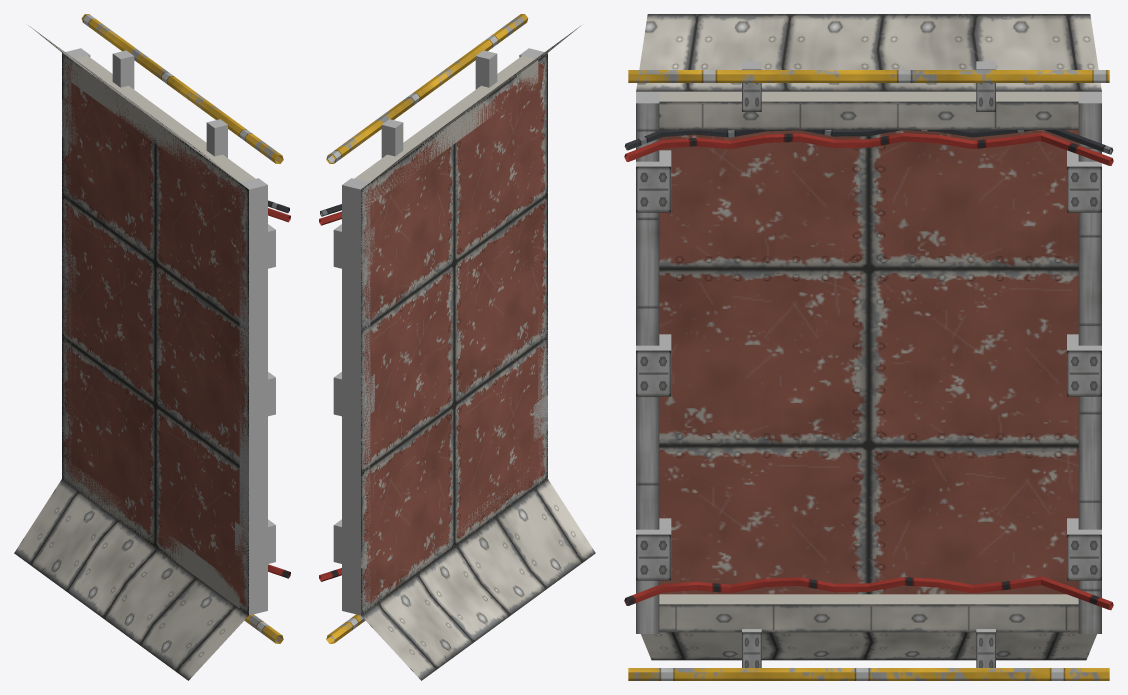
The model's file is cen_wall_red.fbx.
3 views of the same model, side by side, from view 1: azimuth 30°, elevation 25°; view 2: azimuth 150°, elevation 25°; view 3: azimuth 270°, elevation 25° (orthographic). The views are drawn at different scales.
Parts seen in each view (by area): view 1: cen_wall_red; view 2: cen_wall_red; view 3: cen_wall_red.
Part boxes in pixels (x1=…): cen_wall_red: x1=14, y1=14, x2=290, y2=680; cen_wall_red: x1=319, y1=14, x2=595, y2=680; cen_wall_red: x1=624, y1=14, x2=1113, y2=680.
Size of the model in its own units: 0.3437 by 1.85 by 1.25.
Materials: 1 (1 with a texture image).
